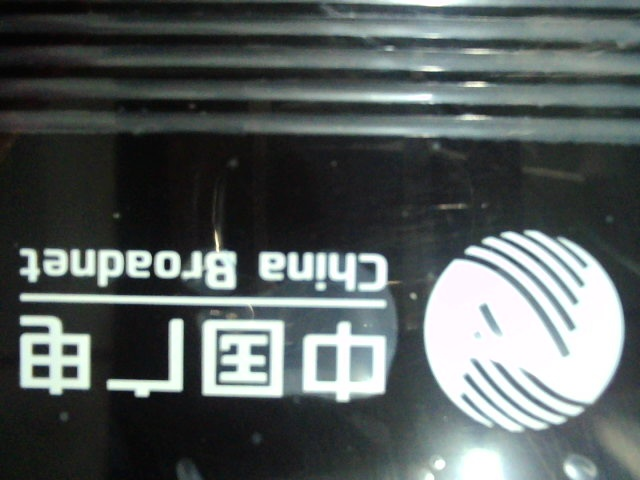AW_ChinaBroadNet: (12, 227, 632, 442)
